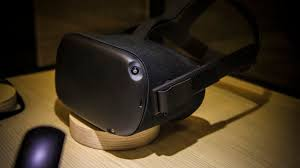oculus: (53, 18, 211, 136)
